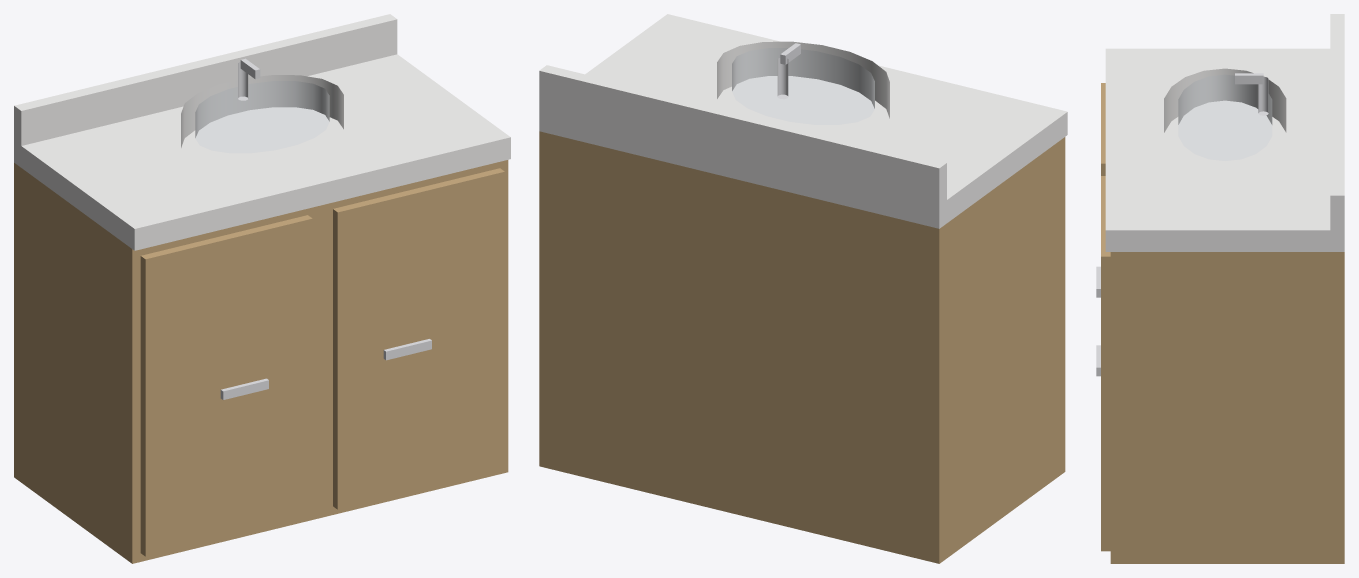
Rendered from vanity-unit.glb.
3 renders of one model, left to right at view 1: azimuth 30°, elevation 25°; view 2: azimuth 150°, elevation 25°; view 3: azimuth 270°, elevation 25°, orthographic. The views are drawn at different scales.
Size of the model in its own units: 0.9 by 0.92 by 0.52.
